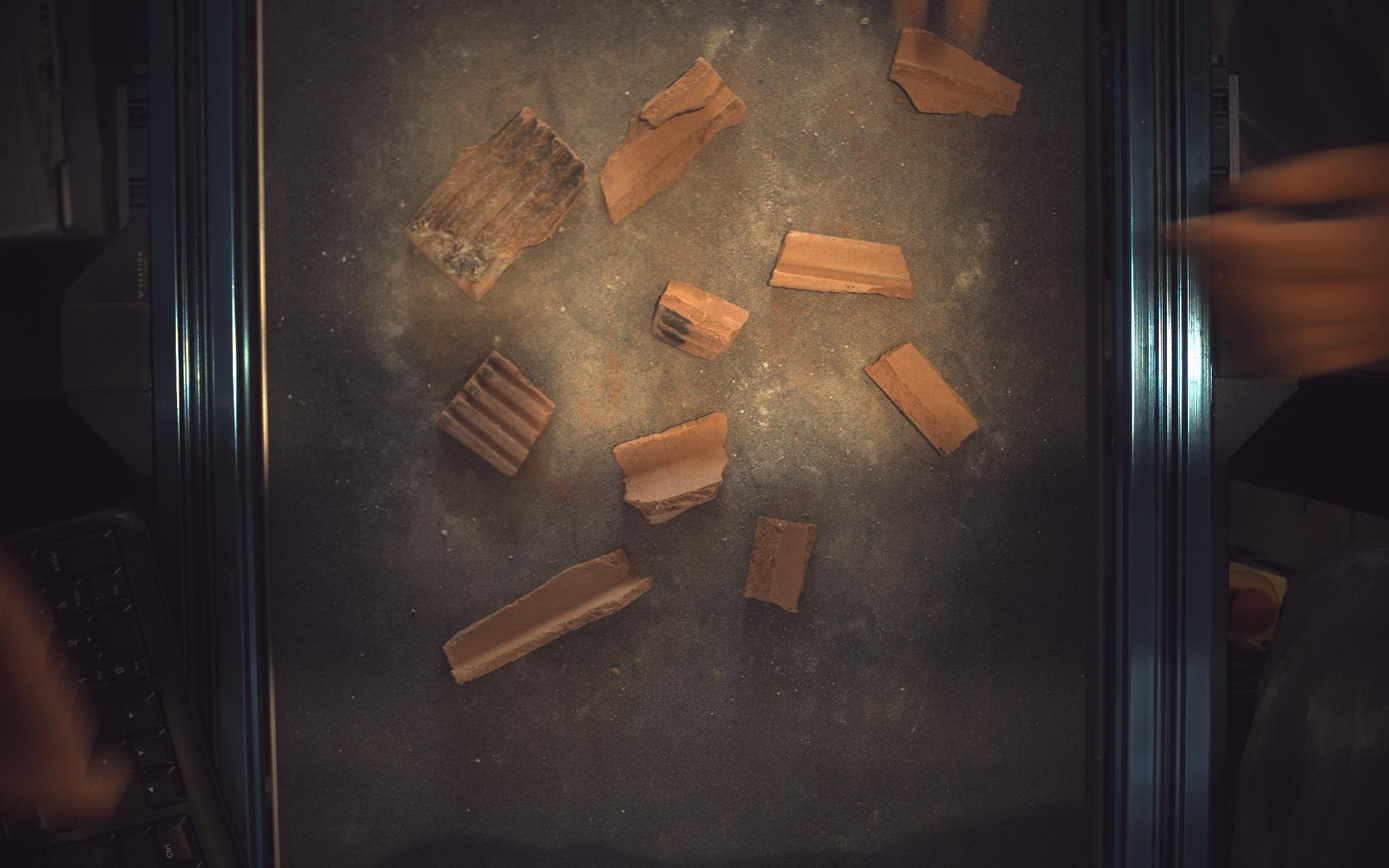brick: (405, 106, 587, 300), (443, 549, 653, 684), (600, 57, 745, 223), (436, 350, 555, 476), (613, 412, 729, 524), (867, 342, 980, 456), (891, 27, 1024, 116), (770, 230, 916, 299), (653, 280, 750, 359), (745, 518, 818, 613)
